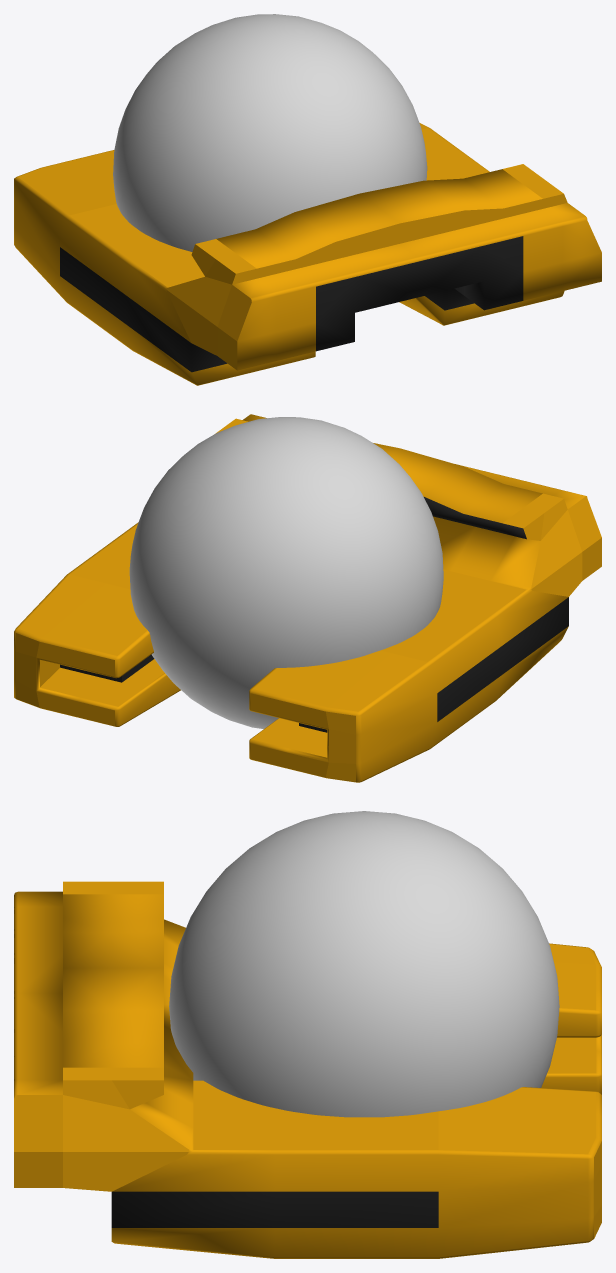
File: ShipProto.fbx
3 renders of one model, top to bottom at view 1: azimuth 30°, elevation 25°; view 2: azimuth 150°, elevation 25°; view 3: azimuth 270°, elevation 25°, orthographic. The views are drawn at different scales.
Parts seen in each view (by area): view 1: Cube, Icosphere; view 2: Cube, Icosphere; view 3: Cube, Icosphere.
Boxes of the visible parts, x1,y1,x2,y2 form: Cube: (14,123,601,385); Icosphere: (113,14,427,251); Cube: (14,414,601,782); Icosphere: (129,417,443,729); Cube: (14,881,601,1258); Icosphere: (169,811,559,1117).
Size of the model in its own units: 830 by 600 by 903.
